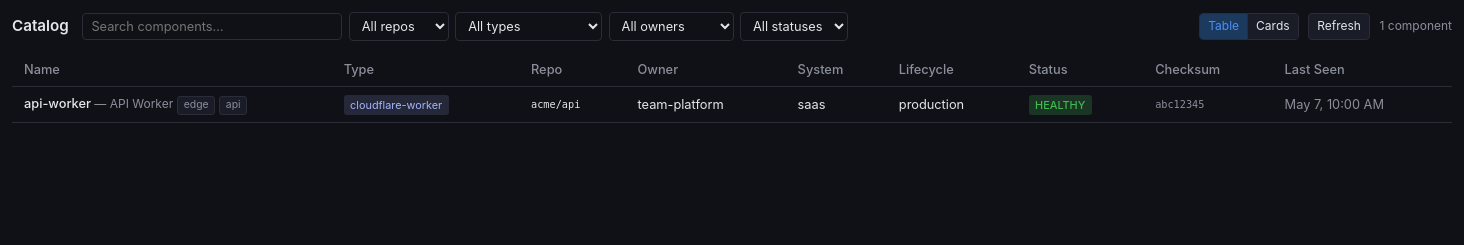
Scenario: CatalogView › toggles to card view
The width and height of the screenshot is (1464, 245).
expect the text "api-worker" is shown: met, box [24,96,91,111]
Click the button "Cards" at (1273, 26), box [1248,14,1298,39]
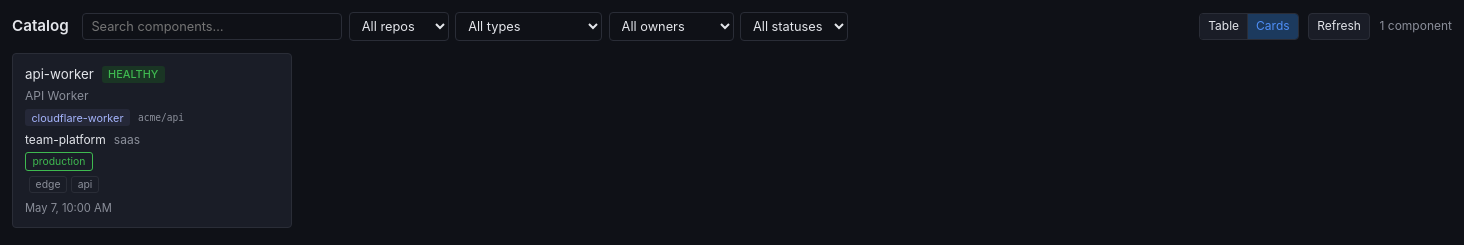
expect the list item with aria-label "View component api-worker" is shown: met, box [12,53,292,228]
